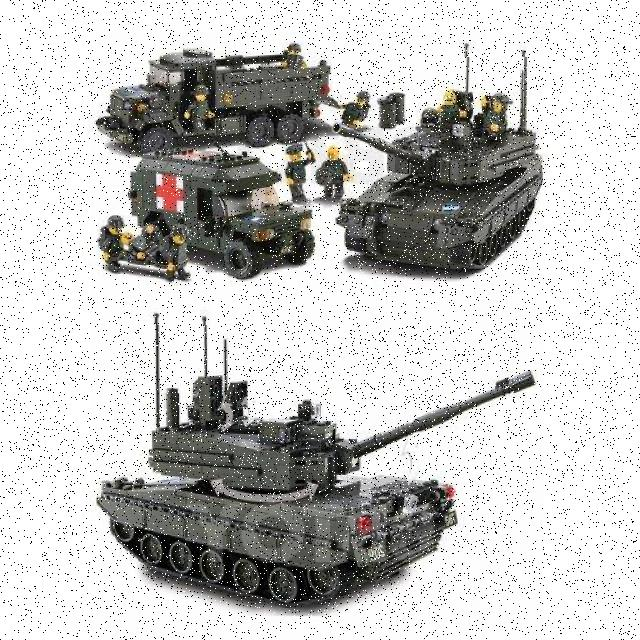MIL_MBT: (114, 326, 514, 605), (352, 57, 542, 273)
